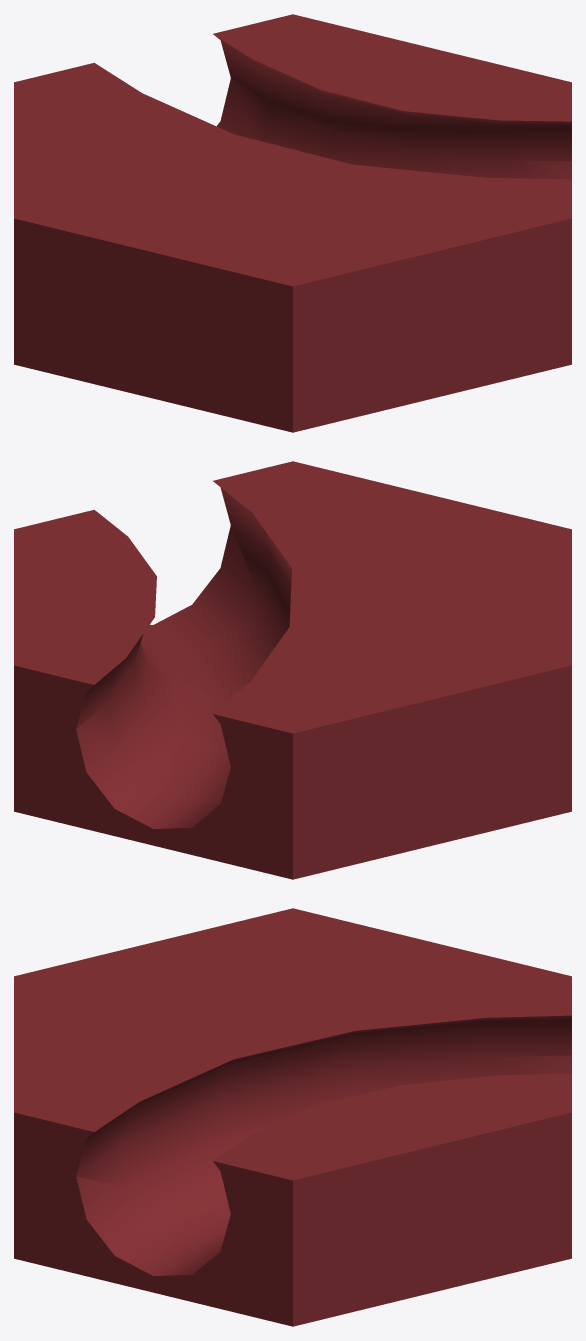
The model's file is curva120.glb.
3 views of the same model, one above another, from view 1: azimuth 30°, elevation 25°; view 2: azimuth 150°, elevation 25°; view 3: azimuth 270°, elevation 25° (orthographic).
Parts seen in each view (by area): view 1: cuva120-col; view 2: cuva120-col; view 3: cuva120-col.
Part boxes in pixels (x1=…): cuva120-col: x1=14, y1=14, x2=571, y2=432; cuva120-col: x1=14, y1=461, x2=571, y2=879; cuva120-col: x1=14, y1=908, x2=571, y2=1326.
Size of the model in its own units: 1.73 by 0.4335 by 1.5.
